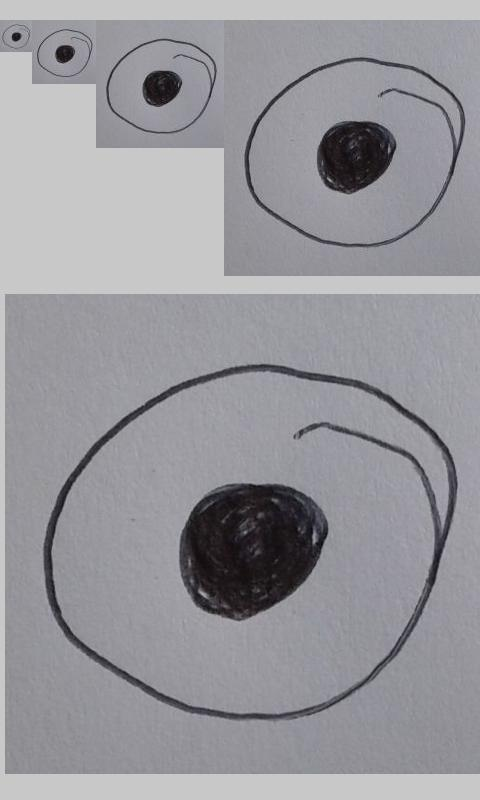radio_button: (40, 359, 459, 725), (242, 55, 467, 249), (105, 37, 218, 135), (36, 28, 93, 78), (1, 23, 31, 50)
